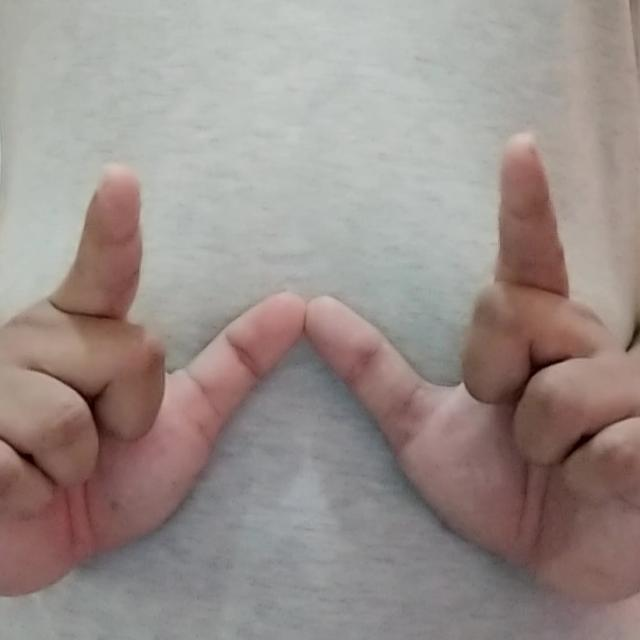W: (6, 123, 640, 610)
